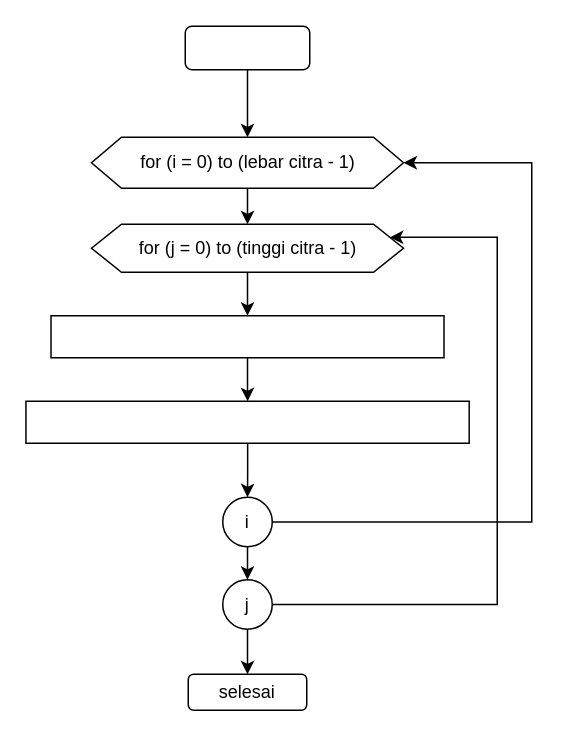
Some shapes in this 572 by 737 pixel diagram are drawn without their labels. The box of each missing label's shape, as (x1, y1, x2, y2) in pixels:
isi nilai piksel pada posisi x,y(RGB) = nilai pixel baru: (24, 400, 469, 443)
mulai: (184, 25, 310, 70)
nilai piksel baru = 0.21 R + 0.72 G + 0.07 B: (50, 314, 444, 358)
